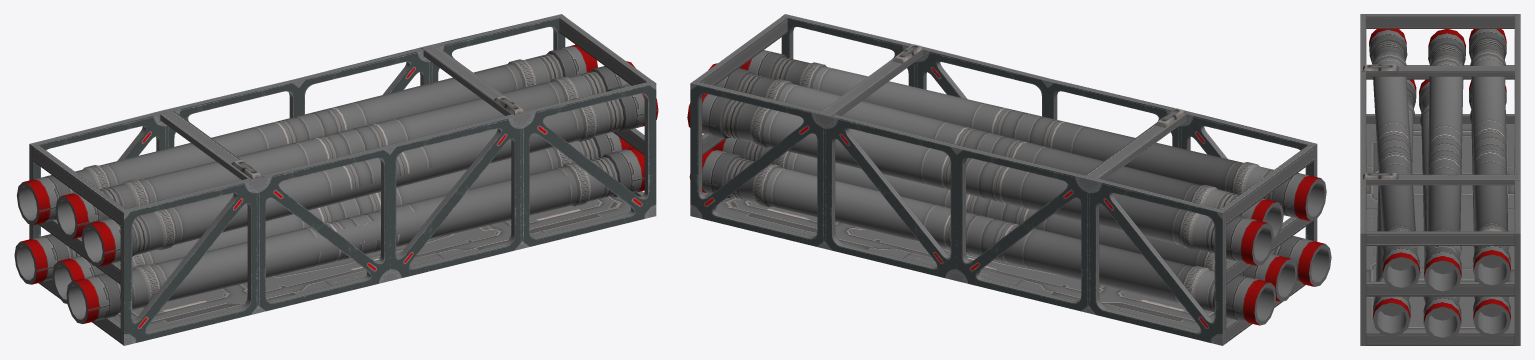
The model's file is quaternius-scifi-pipe-holder.glb.
3 renders of one model, left to right at view 1: azimuth 30°, elevation 25°; view 2: azimuth 150°, elevation 25°; view 3: azimuth 270°, elevation 25°, orthographic. The views are drawn at different scales.
Parts seen in each view (by area): view 1: Prop_PipeHolder; view 2: Prop_PipeHolder; view 3: Prop_PipeHolder.
Boxes of the visible parts, x1,y1,x2,y2 form: Prop_PipeHolder: (14, 14, 658, 345); Prop_PipeHolder: (687, 14, 1331, 345); Prop_PipeHolder: (1360, 14, 1520, 345).
Size of the model in its own units: 4.12 by 0.9272 by 1.16.
Materials: 3 (3 with a texture image).
